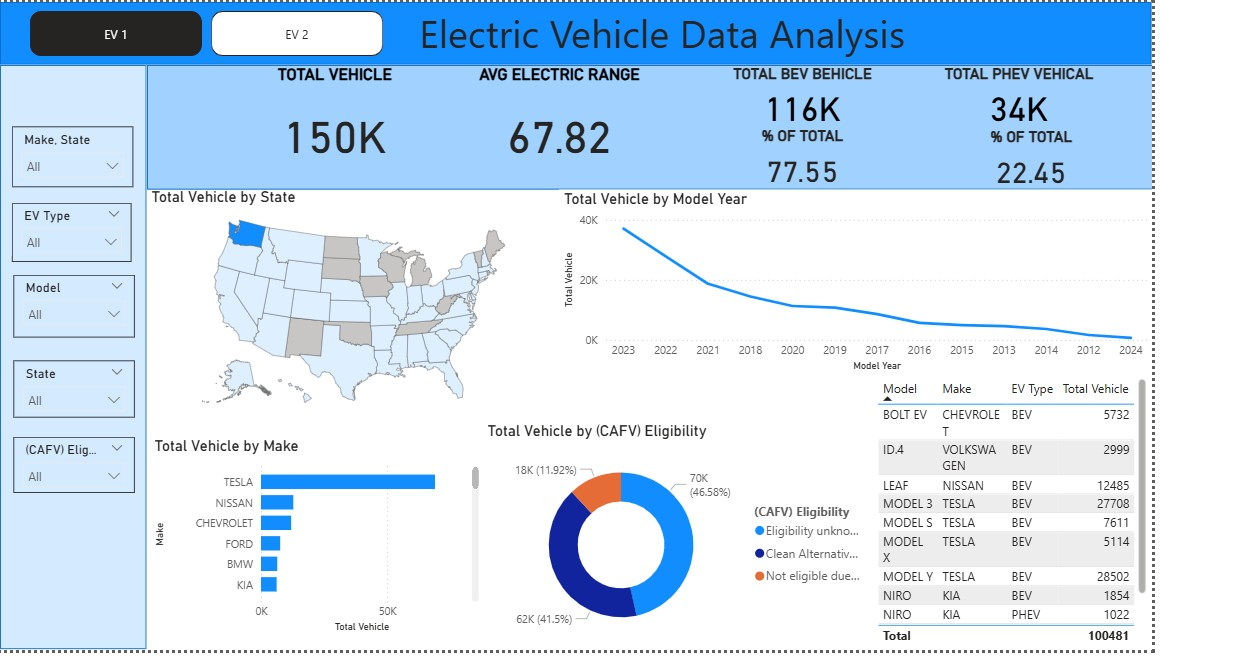

This screenshot's page, from the dashboard's own definition file:
{"tool":"powerbi","page":{"name":"EV  1","canvas":[1280,720],"ordinal":0},"visuals":[{"type":"shape","box":[0,0,1279.4,69.6],"z":0},{"type":"shape","box":[0,69.2,162.7,649],"z":1000},{"type":"textbox","box":[206,0,1058.3,69.9],"z":2000},{"type":"shapeMap","fields":{"Category":["Electric_Vehicle_Population_Dat.State"],"Value":["Total Measures.Total Vehicle"]},"box":[163.5,207.3,458.2,254.2],"z":3000},{"type":"shape","box":[162.7,69.2,1118.5,138.4],"z":4000},{"type":"cardVisual","title":"TOTAL VEHICLE","fields":{"Data":["Total Measures.Total Vehicle"]},"box":[273.6,69.6,197.5,137.6],"z":5000},{"type":"cardVisual","title":"AVG ELECTRIC RANGE","fields":{"Data":["Total Measures.AVG Electric Range"]},"box":[508.4,69.6,226.7,137.6],"z":6000},{"type":"cardVisual","title":"TOTAL BEV BEHICLE","fields":{"Data":["Total Measures.Total BEV Vehicle"]},"box":[791.2,69.2,200.1,69.2],"z":7000},{"type":"cardVisual","title":"% OF TOTAL","fields":{"Data":["Total Measures.Total percent of BEV"]},"box":[791.2,138.4,200.1,67.3],"z":8000},{"type":"cardVisual","title":"TOTAL PHEV VEHICAL","fields":{"Data":["Total Measures.Total PHEV VEhicle"]},"box":[1013.6,69.6,238,69.6],"z":9000},{"type":"cardVisual","title":"% OF TOTAL","fields":{"Data":["Total Measures.Total Percent of PHEV"]},"box":[1013.6,139.3,265.6,68],"z":10000},{"type":"lineChart","fields":{"Category":["Electric_Vehicle_Population_Dat.Model Year"],"Y":["Total Measures.Total Vehicle"]},"box":[621,207.6,658.4,205.7],"z":11000},{"type":"clusteredBarChart","fields":{"Category":["Electric_Vehicle_Population_Dat.Make"],"Y":["Total Measures.Total Vehicle"]},"box":[166.5,482.6,370.3,220.7],"z":12000},{"type":"donutChart","fields":{"Category":["Electric_Vehicle_Population_Dat.Clean Alternative Fuel Vehicle (CAFV) Eligibility"],"Y":["Total Measures.Total Vehicle"]},"box":[536.9,466.4,434.1,253.2],"z":13000},{"type":"tableEx","fields":{"Values":["Electric_Vehicle_Population_Dat.Model","Electric_Vehicle_Population_Dat.Make","Electric_Vehicle_Population_Dat.EV Type","Total Measures.Total Vehicle"]},"box":[970.8,413.4,308.6,304.9],"z":14000},{"type":"slicer","fields":{"Values":["Electric_Vehicle_Population_Dat.Make","Electric_Vehicle_Population_Dat.State"]},"box":[13.1,138.4,134.7,67.3],"z":15000},{"type":"slicer","fields":{"Values":["Electric_Vehicle_Population_Dat.EV Type"]},"box":[13.1,222.6,132.8,65.5],"z":16000},{"type":"slicer","fields":{"Values":["Electric_Vehicle_Population_Dat.Model"]},"box":[15,303,134.7,69.2],"z":17000},{"type":"slicer","fields":{"Values":["Electric_Vehicle_Population_Dat.State"]},"box":[15,398.4,134.7,63.6],"z":18000},{"type":"slicer","fields":{"Values":["Electric_Vehicle_Population_Dat.(CAFV) Eligibility"]},"box":[15,482.6,134.7,61.7],"z":19000},{"type":"pageNavigator","box":[33.7,9.4,392.8,50.5],"z":20000}]}

Visuals, with their boxes in screenshot pixels (x1, y1, x2, y2):
shape: left=0, top=0, right=1151, bottom=63
shape: left=0, top=62, right=144, bottom=648
textbox: left=183, top=0, right=1137, bottom=63
shapeMap - Electric_Vehicle_Population_Dat.State x Total Measures.Total Vehicle: left=144, top=187, right=558, bottom=416
shape: left=144, top=62, right=1152, bottom=187
"TOTAL VEHICLE" cardVisual: left=244, top=63, right=422, bottom=187
"AVG ELECTRIC RANGE" cardVisual: left=455, top=63, right=660, bottom=187
"TOTAL BEV BEHICLE" cardVisual: left=710, top=62, right=891, bottom=125
"% OF TOTAL" cardVisual: left=710, top=125, right=891, bottom=186
"TOTAL PHEV VEHICAL" cardVisual: left=911, top=63, right=1126, bottom=126
"% OF TOTAL" cardVisual: left=911, top=126, right=1151, bottom=187
lineChart - Electric_Vehicle_Population_Dat.Model Year x Total Measures.Total Vehicle: left=557, top=187, right=1151, bottom=373
clusteredBarChart - Electric_Vehicle_Population_Dat.Make x Total Measures.Total Vehicle: left=147, top=435, right=481, bottom=634
donutChart - Electric_Vehicle_Population_Dat.Clean Alternative Fuel Vehicle (CAFV) Eligibility x Total Measures.Total Vehicle: left=481, top=421, right=873, bottom=649
tableEx - Electric_Vehicle_Population_Dat.Model x Electric_Vehicle_Population_Dat.Make: left=872, top=373, right=1151, bottom=648
slicer - Electric_Vehicle_Population_Dat.Make x Electric_Vehicle_Population_Dat.State: left=9, top=125, right=130, bottom=186
slicer - Electric_Vehicle_Population_Dat.EV Type: left=9, top=201, right=128, bottom=260
slicer - Electric_Vehicle_Population_Dat.Model: left=10, top=273, right=132, bottom=336
slicer - Electric_Vehicle_Population_Dat.State: left=10, top=359, right=132, bottom=417
slicer - Electric_Vehicle_Population_Dat.(CAFV) Eligibility: left=10, top=435, right=132, bottom=491
pageNavigator: left=27, top=8, right=381, bottom=54
